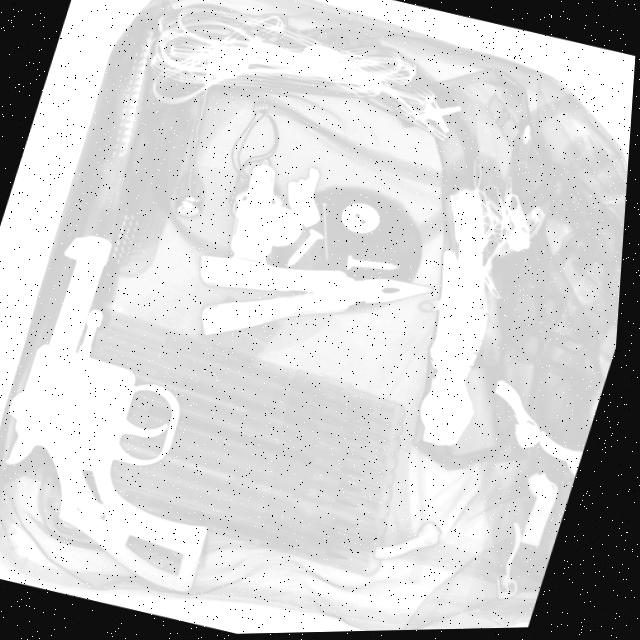pistol: (0, 222, 299, 601)
